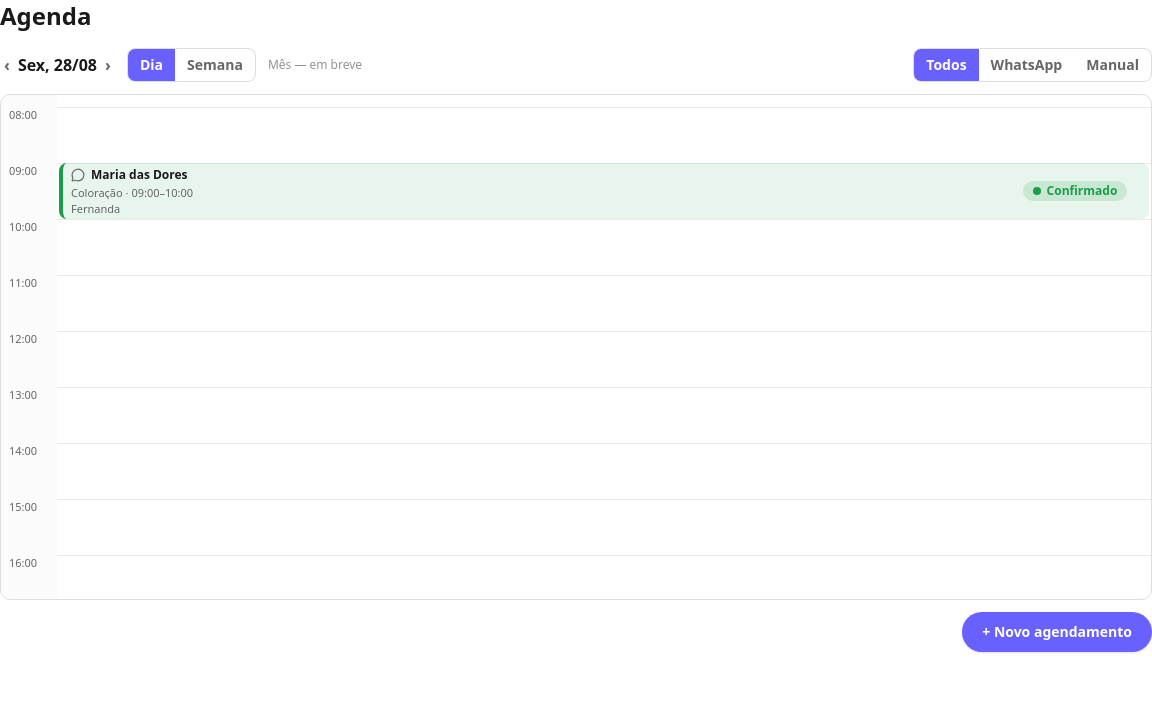
Agenda › mostra a mensagem REAL da API quando o cancelamento falha
The width and height of the screenshot is (1152, 720).
Click the text "Maria das Dores".
click(139, 175)  # box [91, 167, 188, 183]
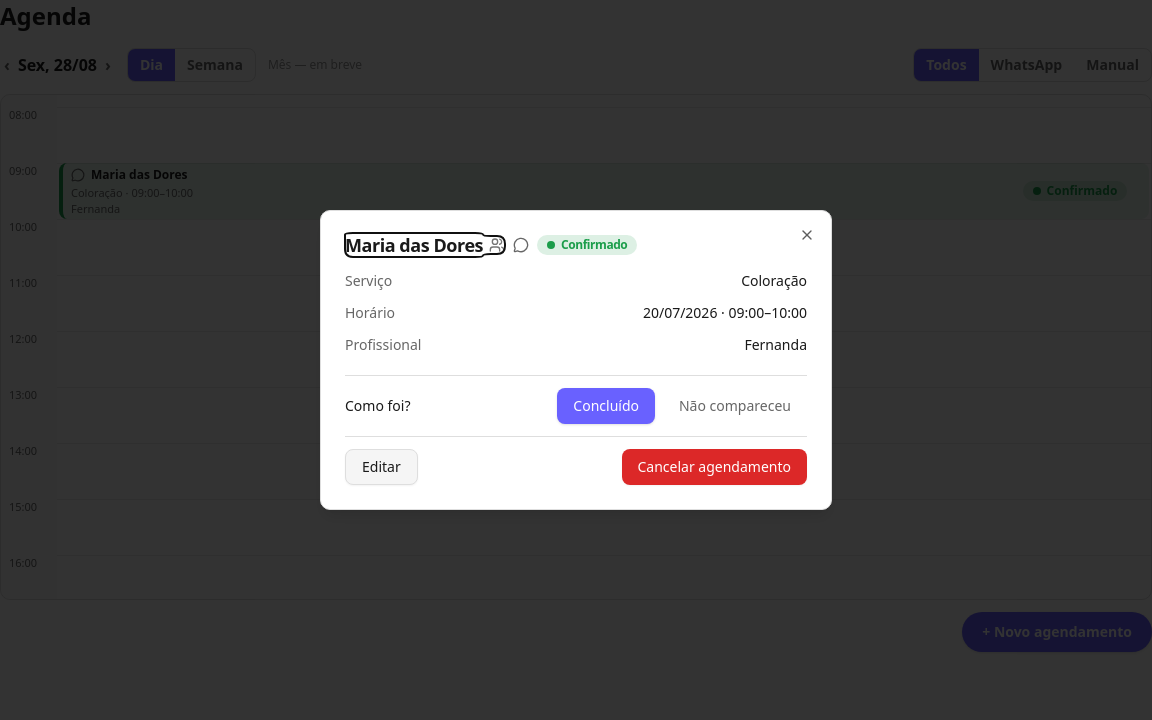
Click the button "Cancelar agendamento".
click(714, 467)  # box [622, 449, 807, 485]
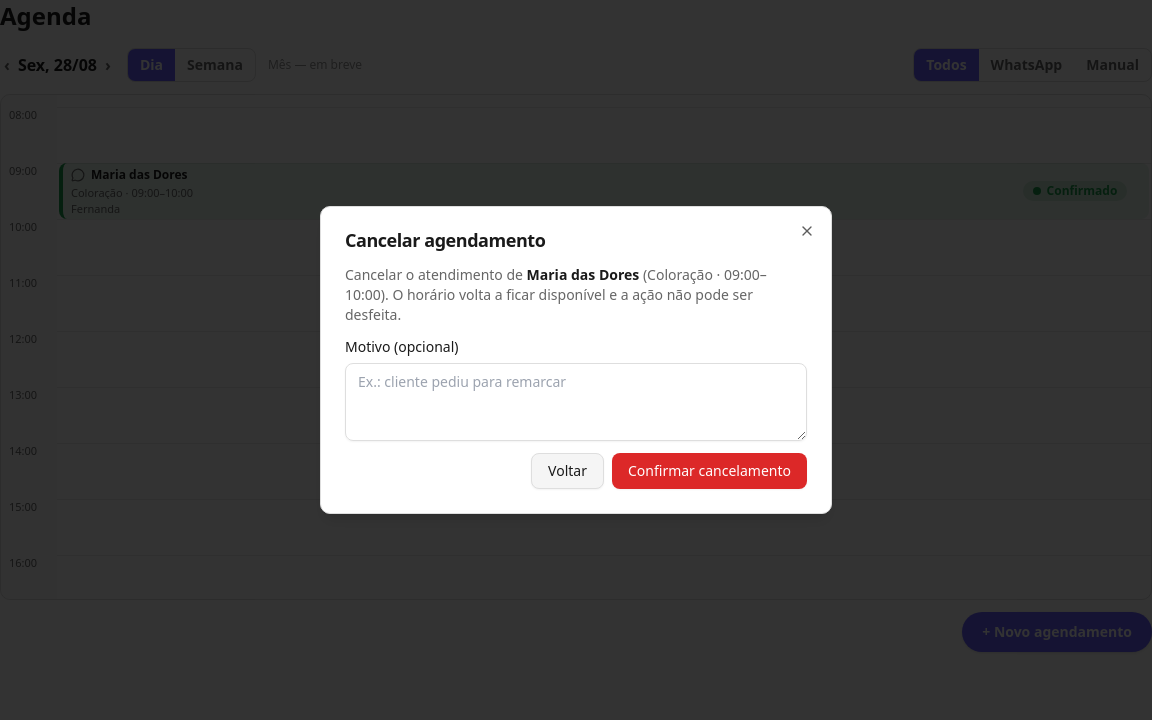
Click the button "Confirmar cancelamento".
click(710, 471)  # box [612, 453, 807, 489]
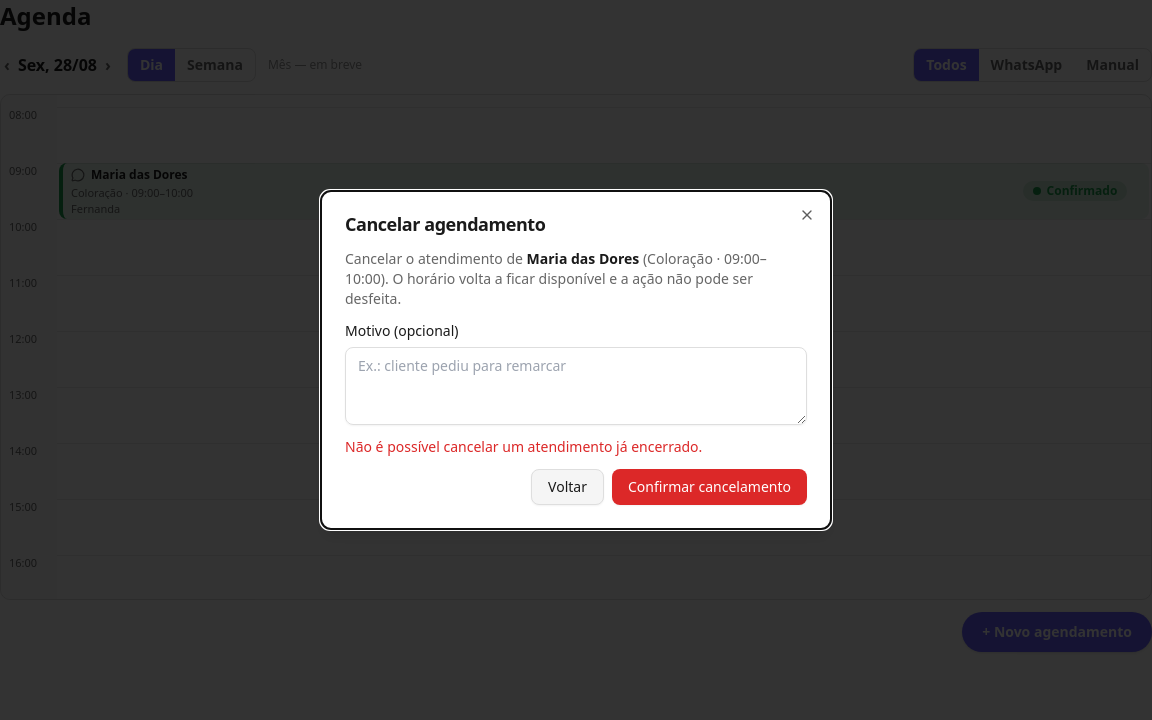
Result: the text "Não é possível cancelar um atendimento já encerrado." is shown at [345, 437, 702, 456]
